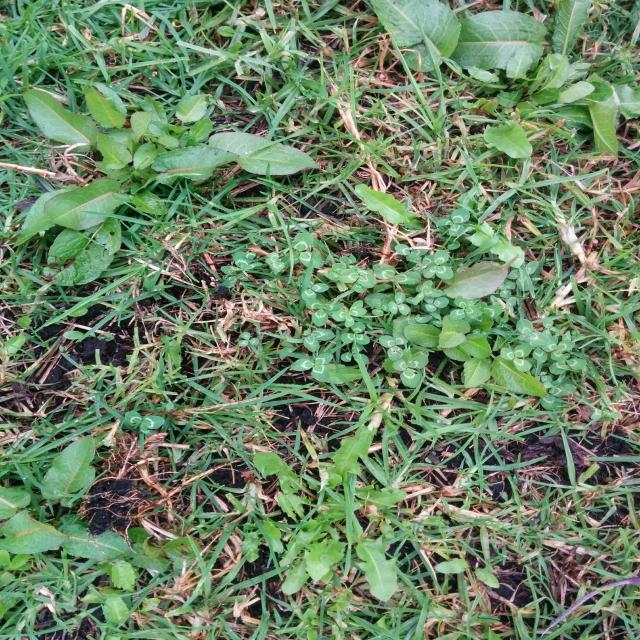Four Leaf Clover: (331, 300, 367, 328)
